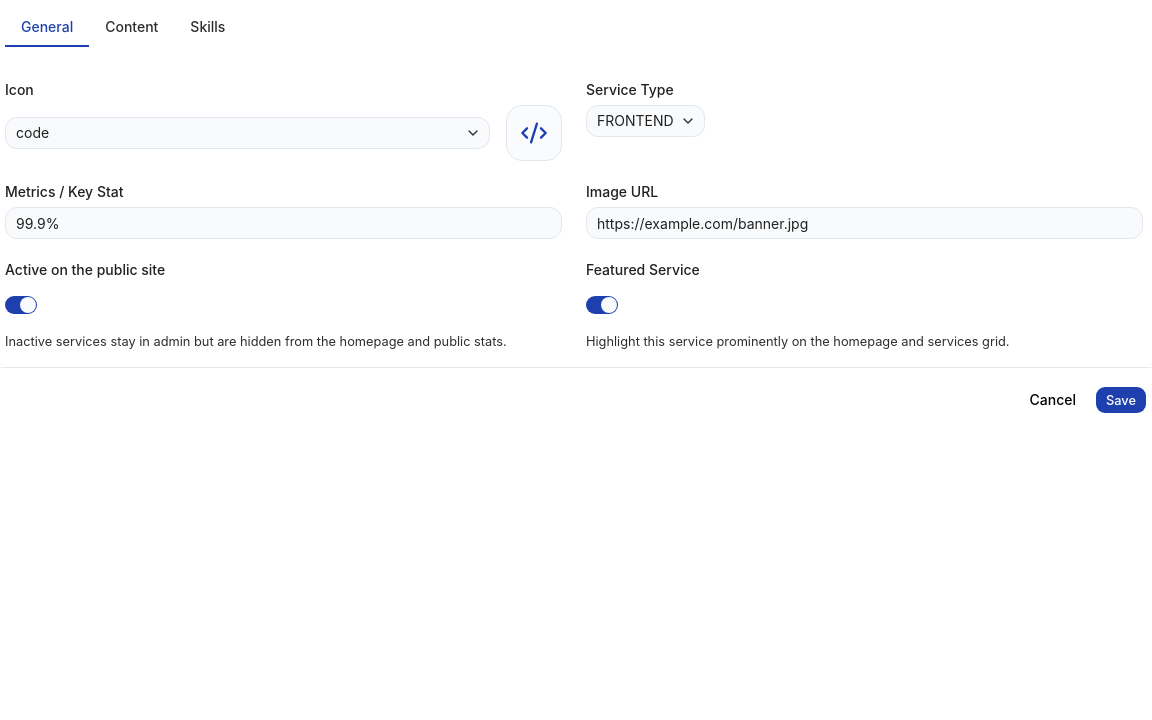
Test: ServiceForm › navigates to Content tab and renders AdminFormLanguageBar and translation fields
The width and height of the screenshot is (1152, 720).
Click the tab "Content" at [132, 27], box [89,7,174,47]
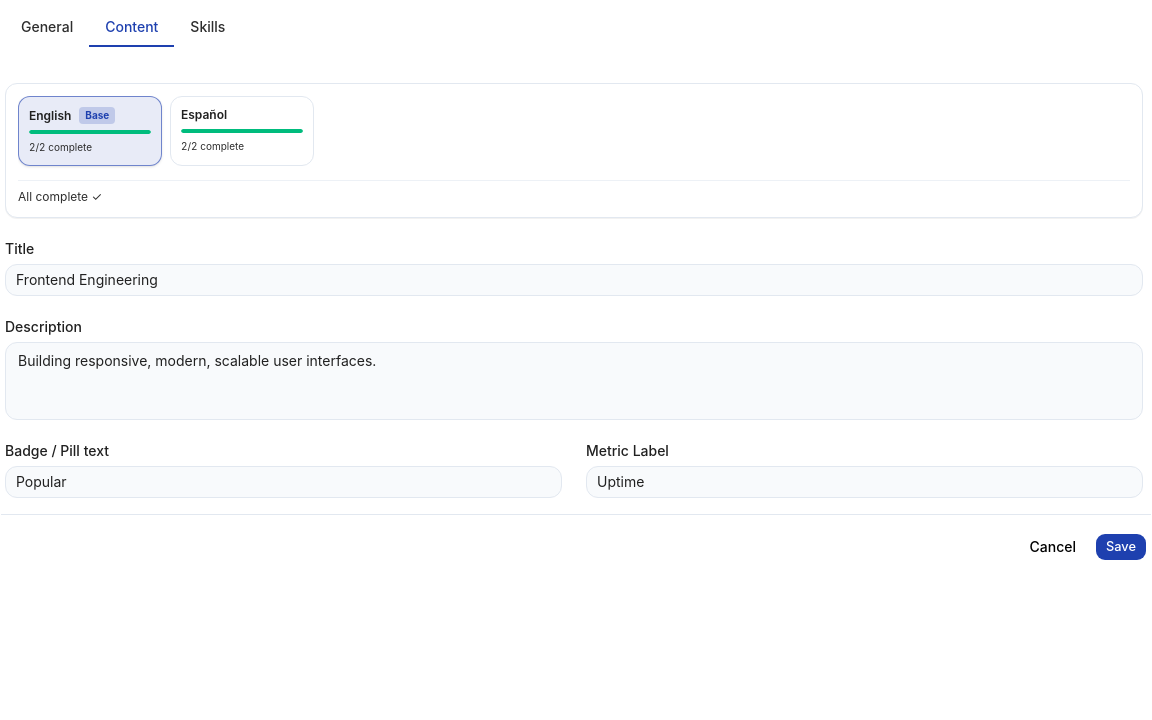
Expected: the text "English" is shown, [29,108,71,124]
Expected: the text "Español" is shown, [181,107,227,123]
Expected: the field showing "Frontend Engineering" is shown, [5,264,1143,296]
